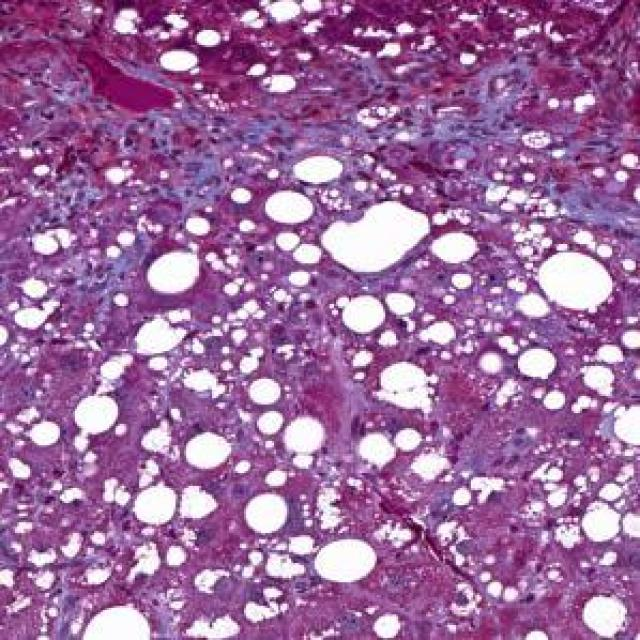fibrosis: (128, 98, 296, 197), (402, 92, 522, 171)
